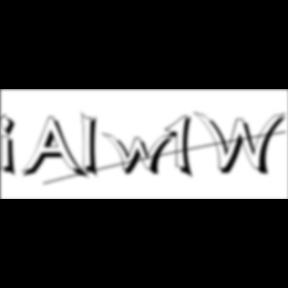1: (164, 114, 199, 182)
A: (22, 116, 90, 182)
I: (81, 110, 105, 182)
i: (1, 112, 23, 180)
w: (102, 132, 180, 178)
